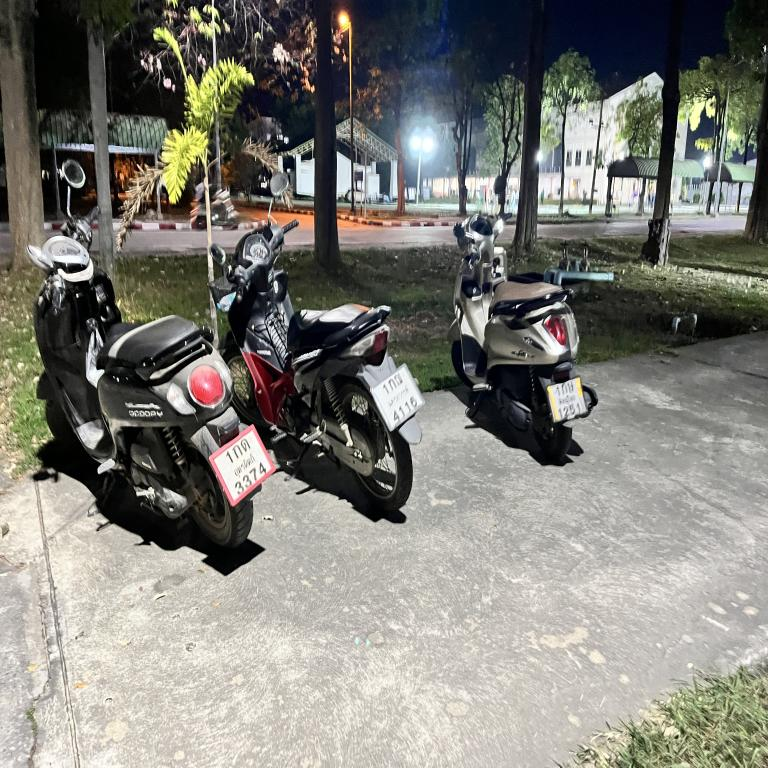license plate: (207, 423, 278, 512), (370, 361, 428, 438), (544, 374, 591, 430)
